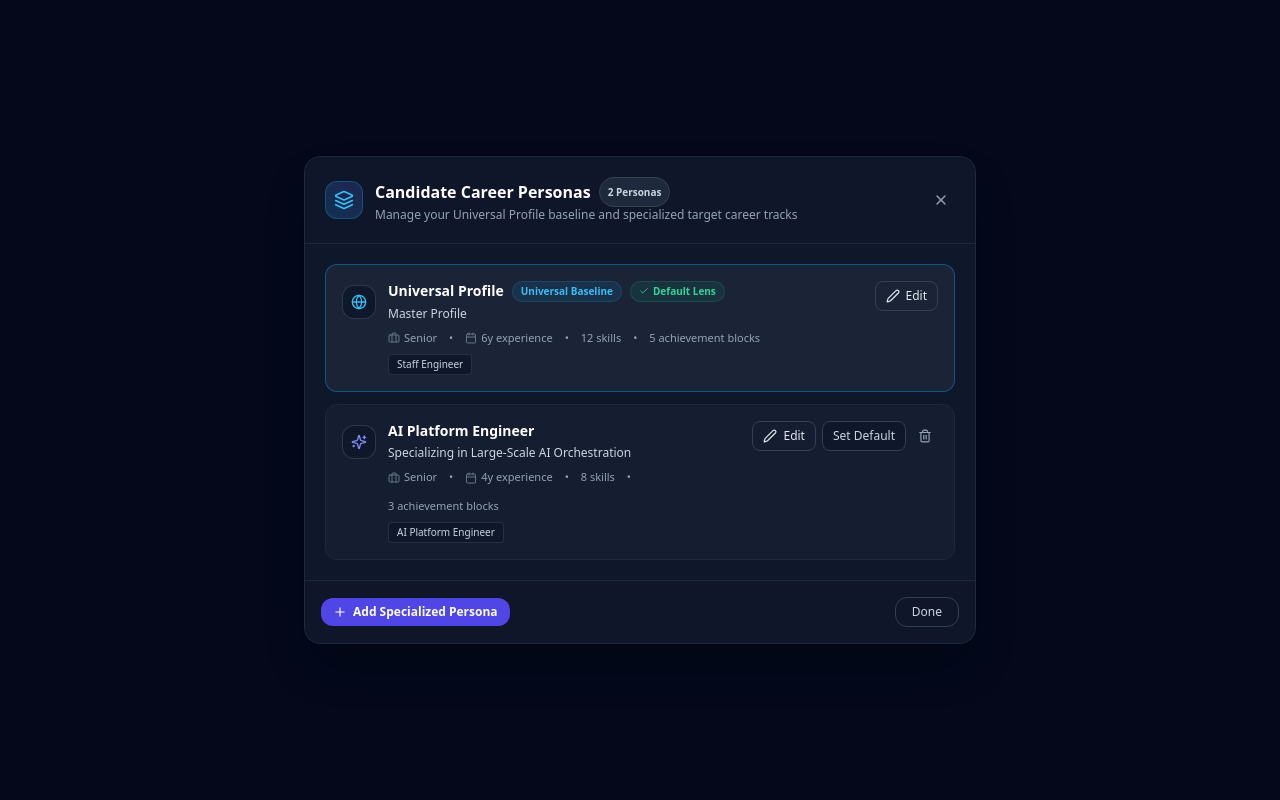
Test case: PersonaManagementModal Component › hides persona list and footer actions when editing, and returns to list via bottom-left back button
Expected: the element with test id "persona-list" is shown, 325,264 -> 955,560
Expected: the button with test id "add-persona-btn" is shown, 321,598 -> 510,626
// Enter edit mode
What coordinates should you click on to do the following:
click the button with test id "edit-persona-btn-p-specialized-1"
I would click on:
 (784, 436)
Its box is 752,421 -> 816,451.
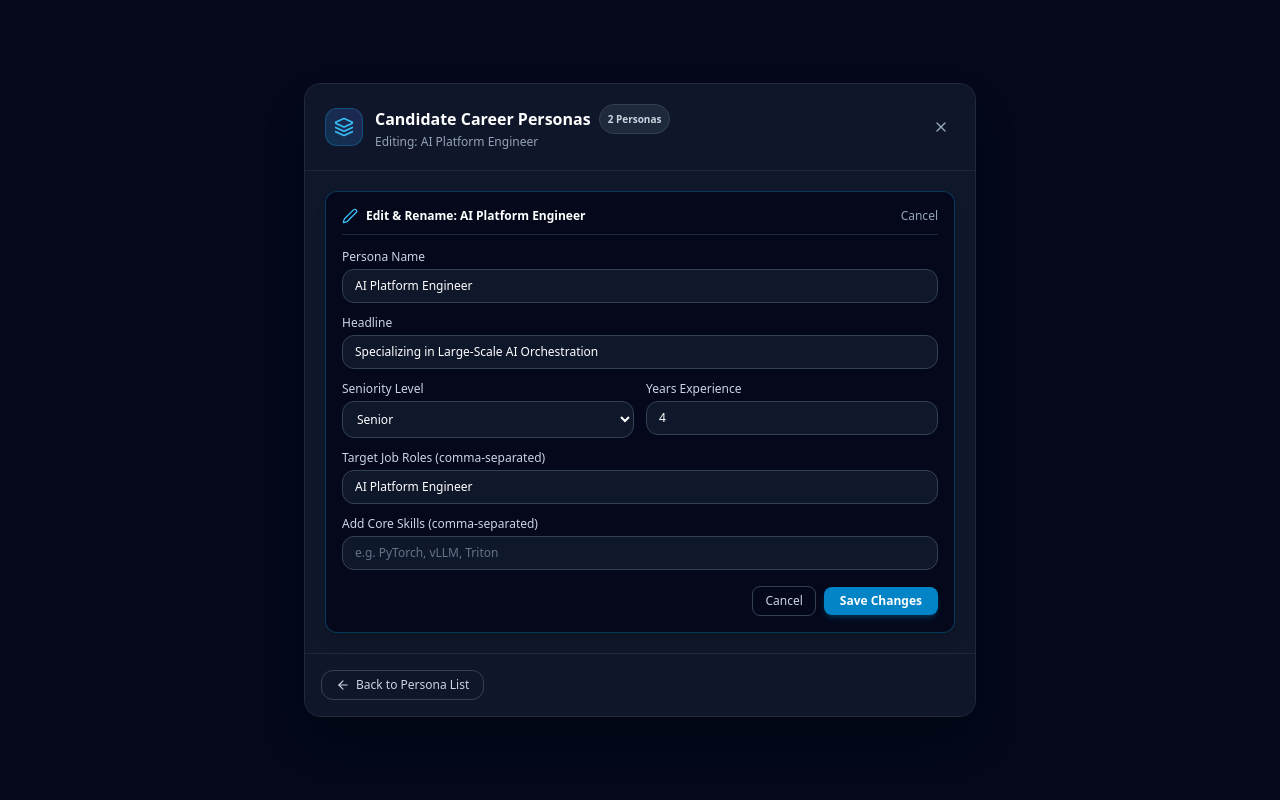
Result: the element with test id "edit-persona-form" is shown at 325,191 -> 955,633
Result: the element with test id "persona-list" is gone
Result: the button "Done" is gone
// Click Back to Persona List
What coordinates should you click on to do the following:
click the button with test id "back-to-persona-list-btn"
I would click on:
 (403, 685)
Its box is 321,670 -> 484,700.
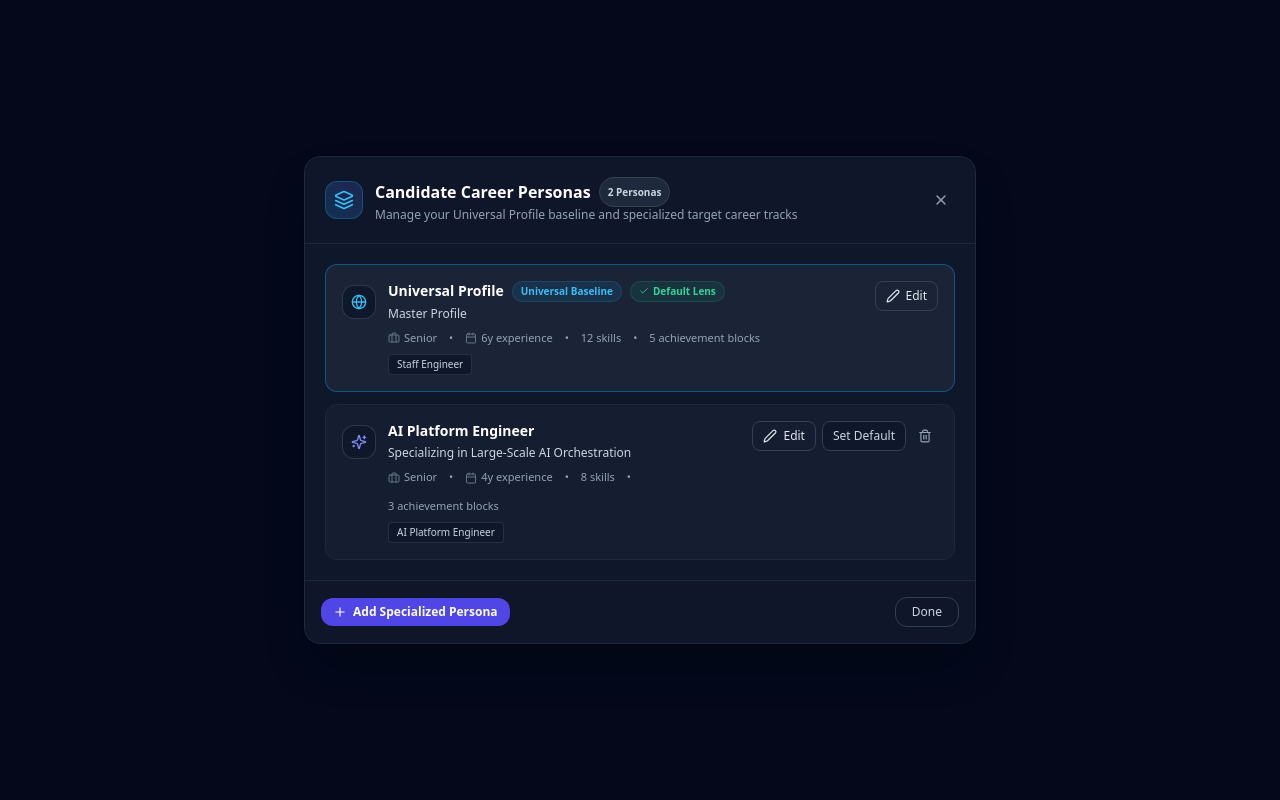
Result: the element with test id "edit-persona-form" is gone
Result: the element with test id "persona-list" is shown at 325,264 -> 955,560
Result: the button with test id "add-persona-btn" is shown at 321,598 -> 510,626
